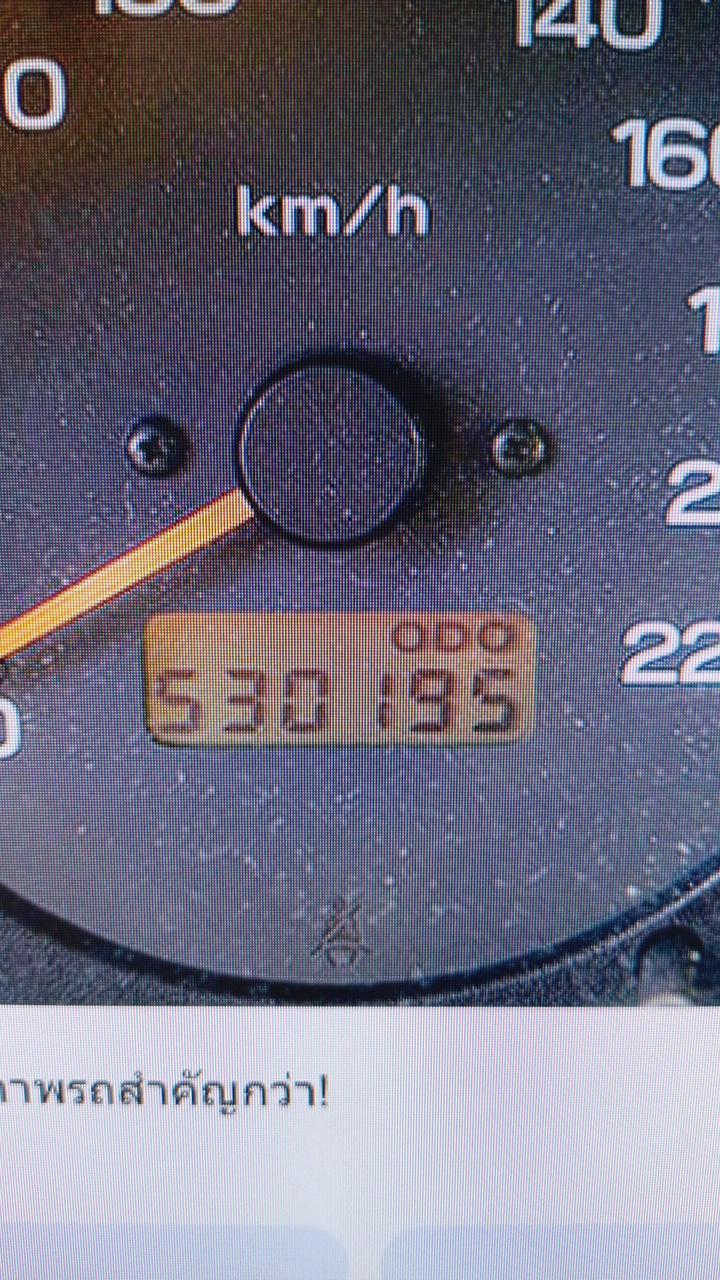odometer: (142, 602, 538, 752)
